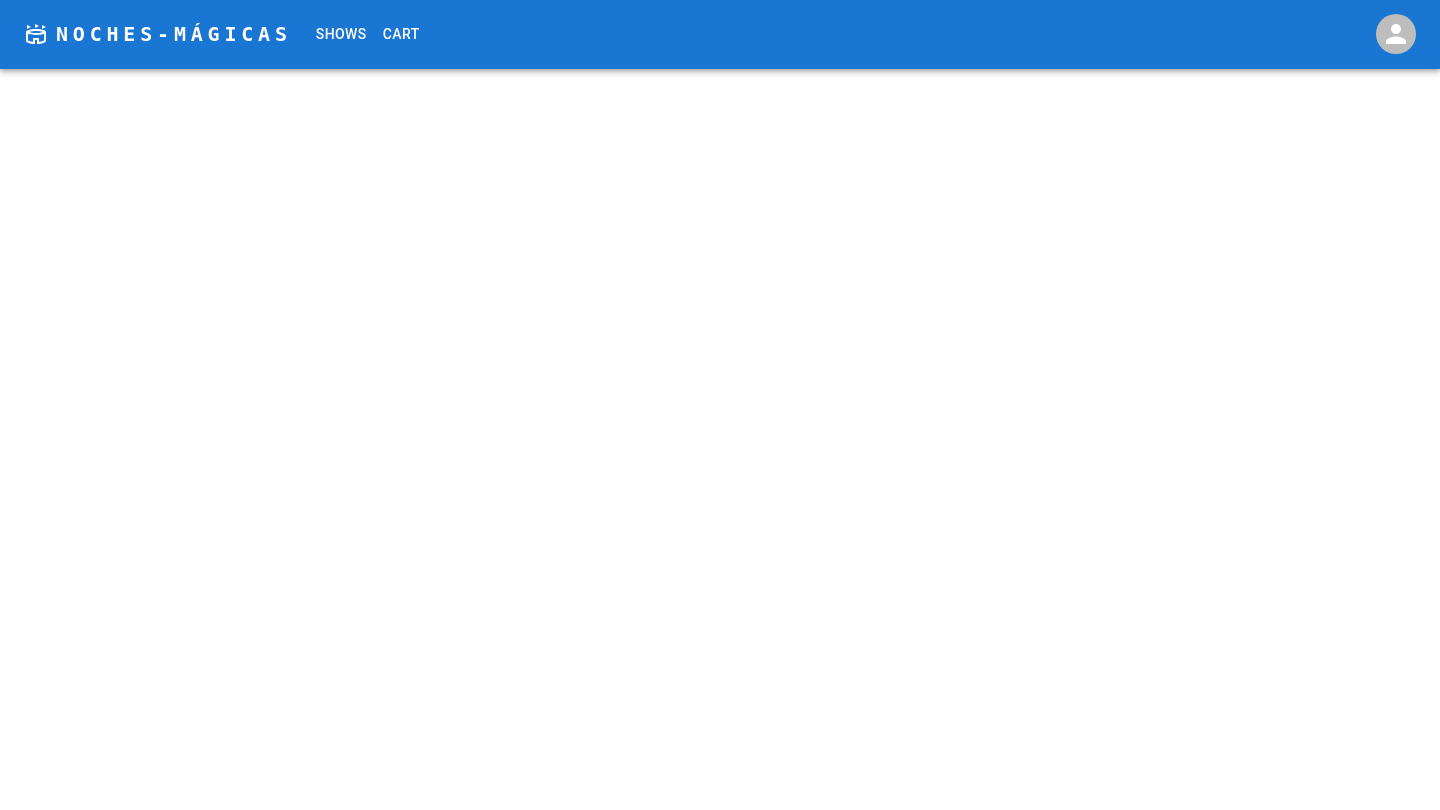
Test: Test para navbar component › se muestra la opción de dashboard al hacer clic en el avatar de un usuario admin
Click the button with test id "boton-avatar" at point(1396, 34), box [1376,14,1416,54]
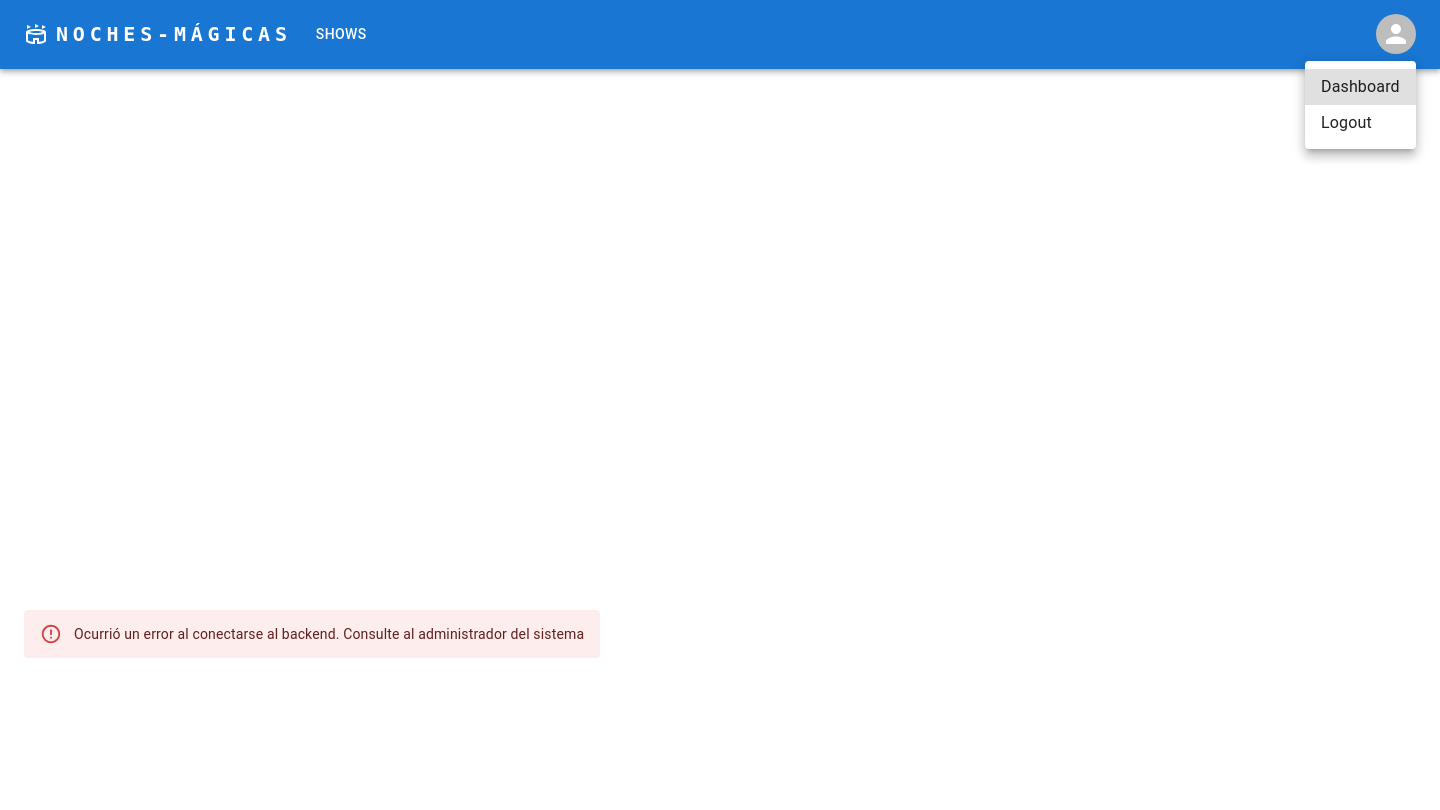
Expected: the text "Dashboard" is shown, [1321,75,1400,99]
